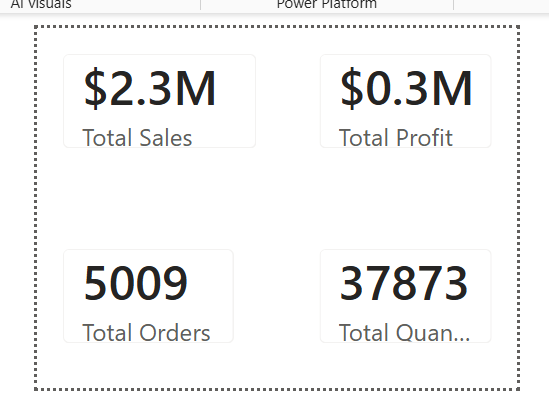

What the dashboard file says about the page in this screenshot:
{"tool":"powerbi","page":{"name":"Tooltip","canvas":[320,240],"ordinal":3},"visuals":[{"type":"cardVisual","fields":{"Data":["measures (3).Total Sales"]},"box":[0,0,163,97],"z":0},{"type":"cardVisual","fields":{"Data":["measures (3).Total Profit"]},"box":[171,0,149,97],"z":1000},{"type":"cardVisual","fields":{"Data":["measures (3).Total Orders"]},"box":[0,130,148,97],"z":2000},{"type":"cardVisual","fields":{"Data":["measures (3).Total Quantity"]},"box":[171,130,149,97],"z":3000}]}

Visuals, with their boxes on the page's 320x240 design canvas (x1, y1, x2, y2). These are canvas units, not pixel positions in the 549x403 screenshot, which may show the page scaled, cropped or inside an application window:
cardVisual - measures (3).Total Sales: [0, 0, 163, 97]
cardVisual - measures (3).Total Profit: [171, 0, 320, 97]
cardVisual - measures (3).Total Orders: [0, 130, 148, 227]
cardVisual - measures (3).Total Quantity: [171, 130, 320, 227]
